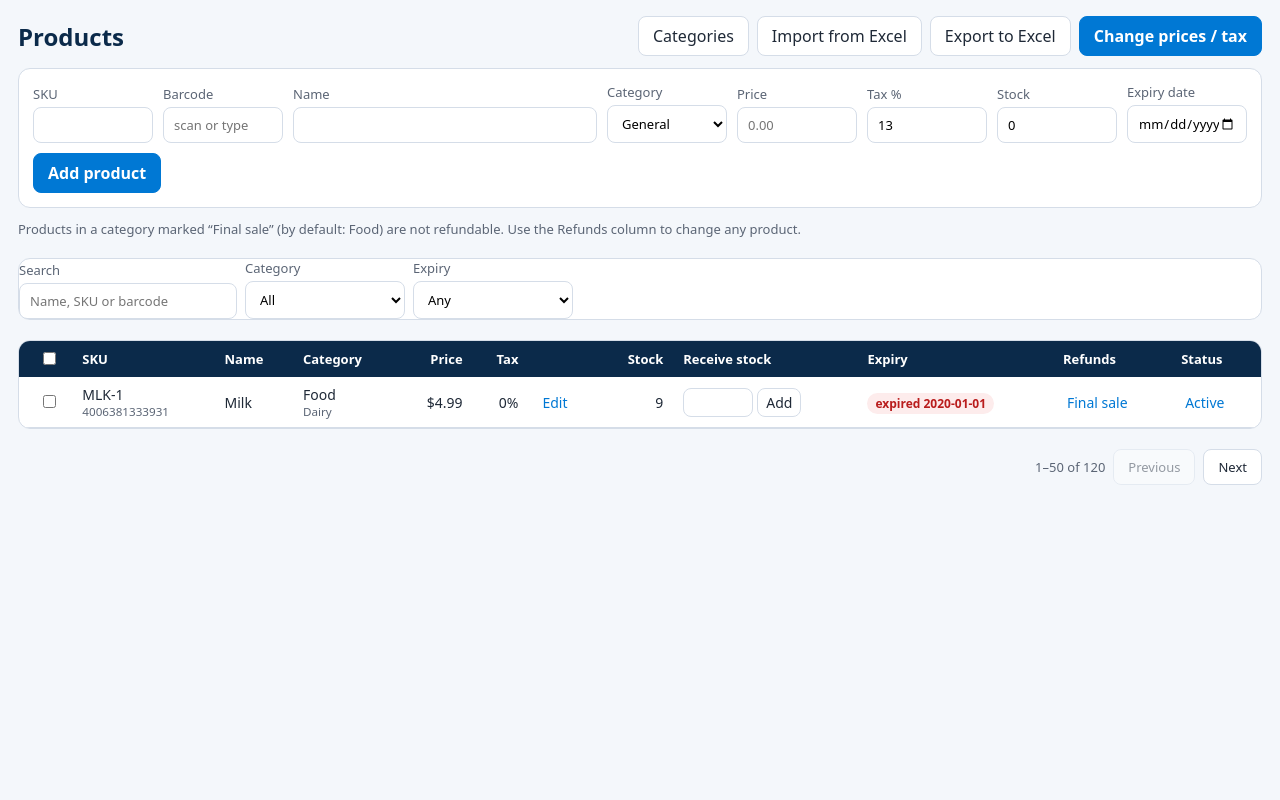
Test case: <Products> paging and filters › asks the server for one page with the chosen filters
Check: the text "1–50 of 120" is shown, box [1035,449,1262,485]
Check: the text "expired 2020-01-01" is shown, box [867,392,994,414]
Select "Food" in the dropdown named "Filter by category" at (325,300), box [245,281,405,319]
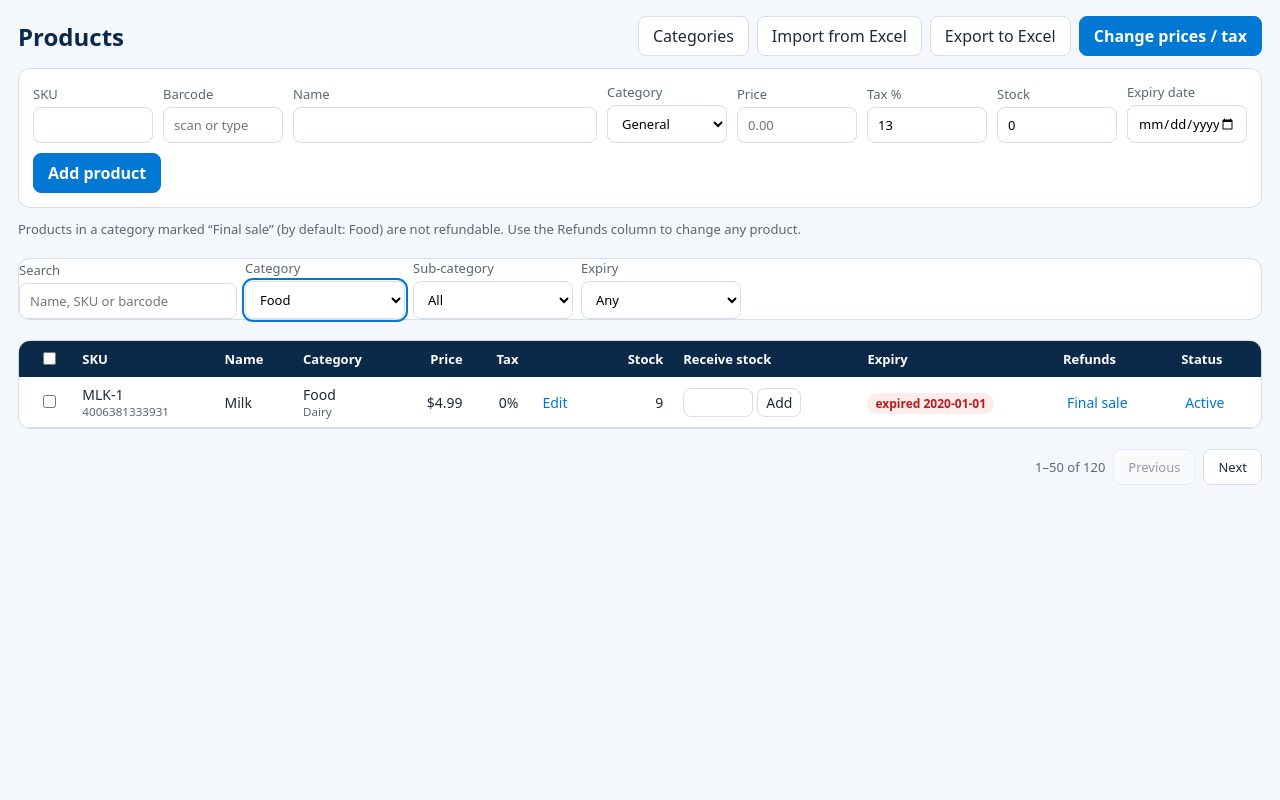
Select "Dairy" in the dropdown named "Filter by sub-category" at (493,300), box [413,281,573,319]
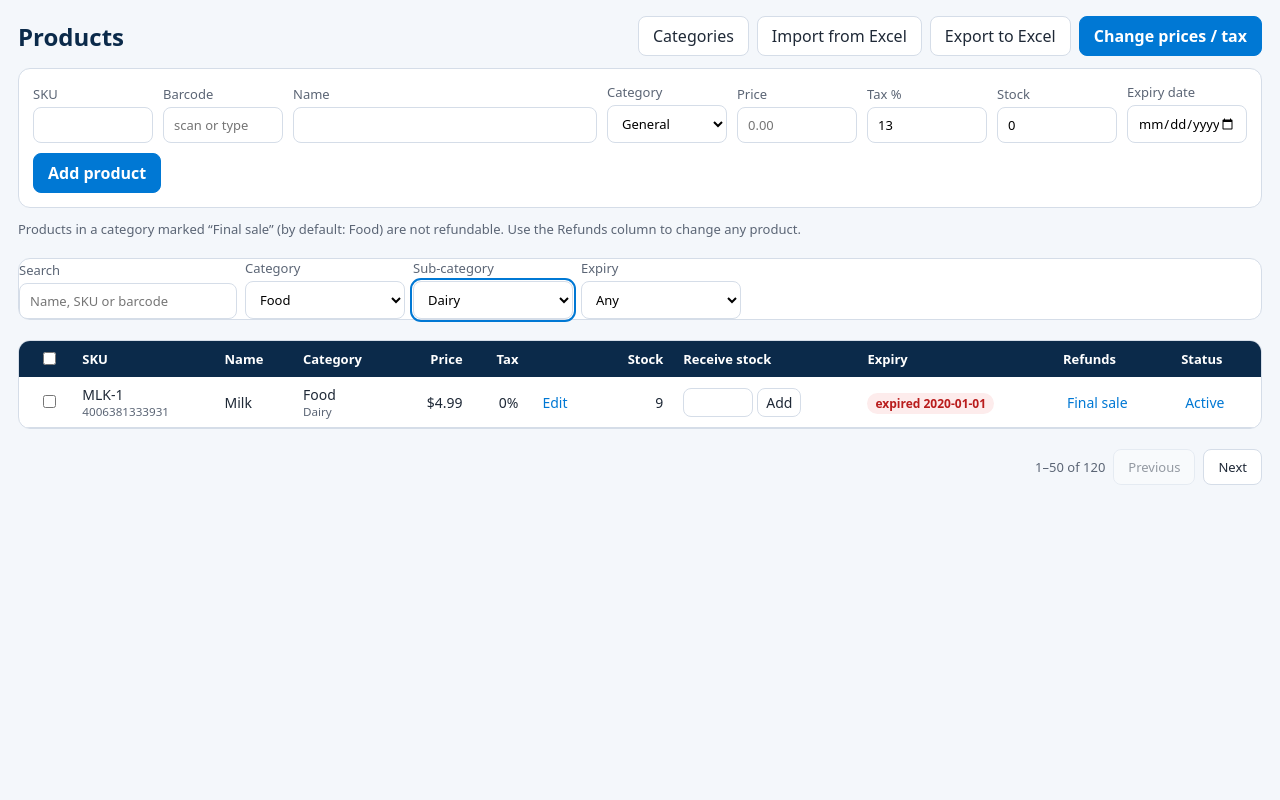
Select "Within 7 days" in the dropdown named "Filter by expiry" at (661,300), box [581,281,741,319]
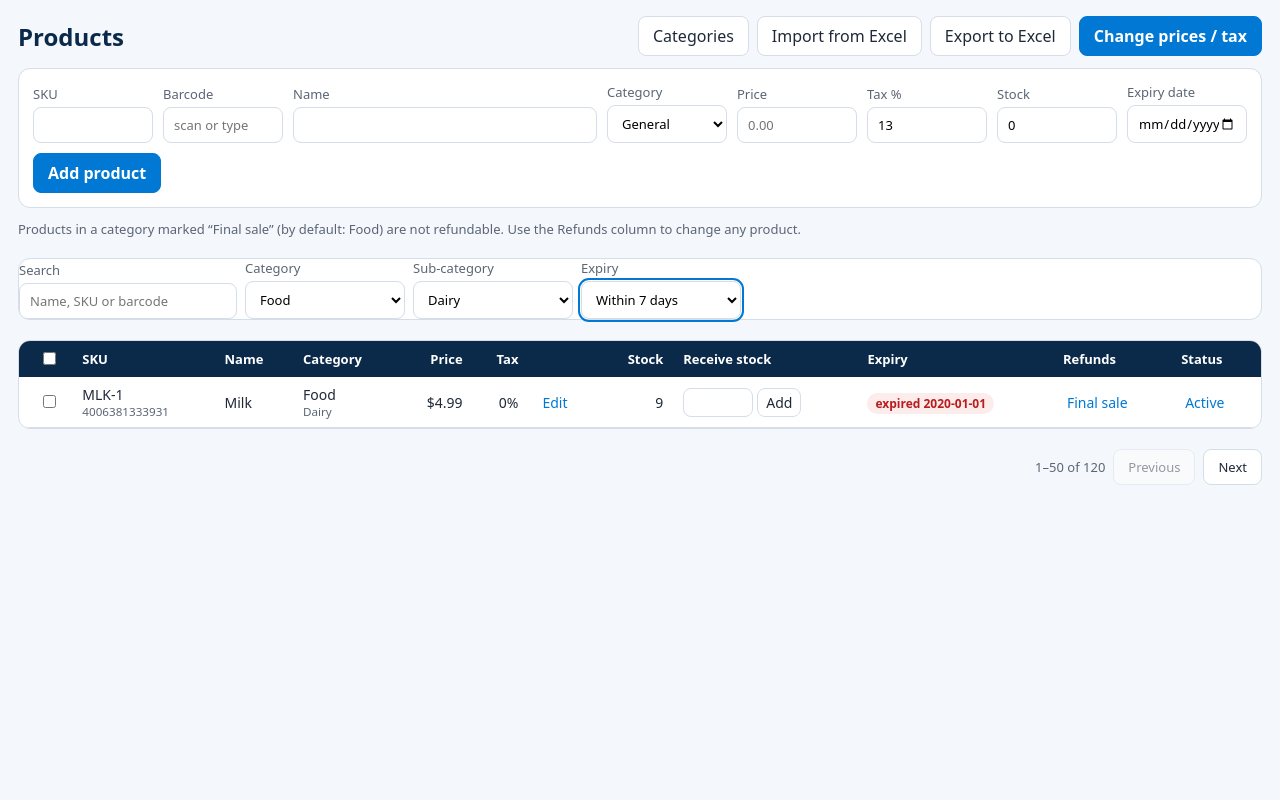
Type "milk" into the search field named "Search the catalogue" at (128,301), box [19,283,237,319]
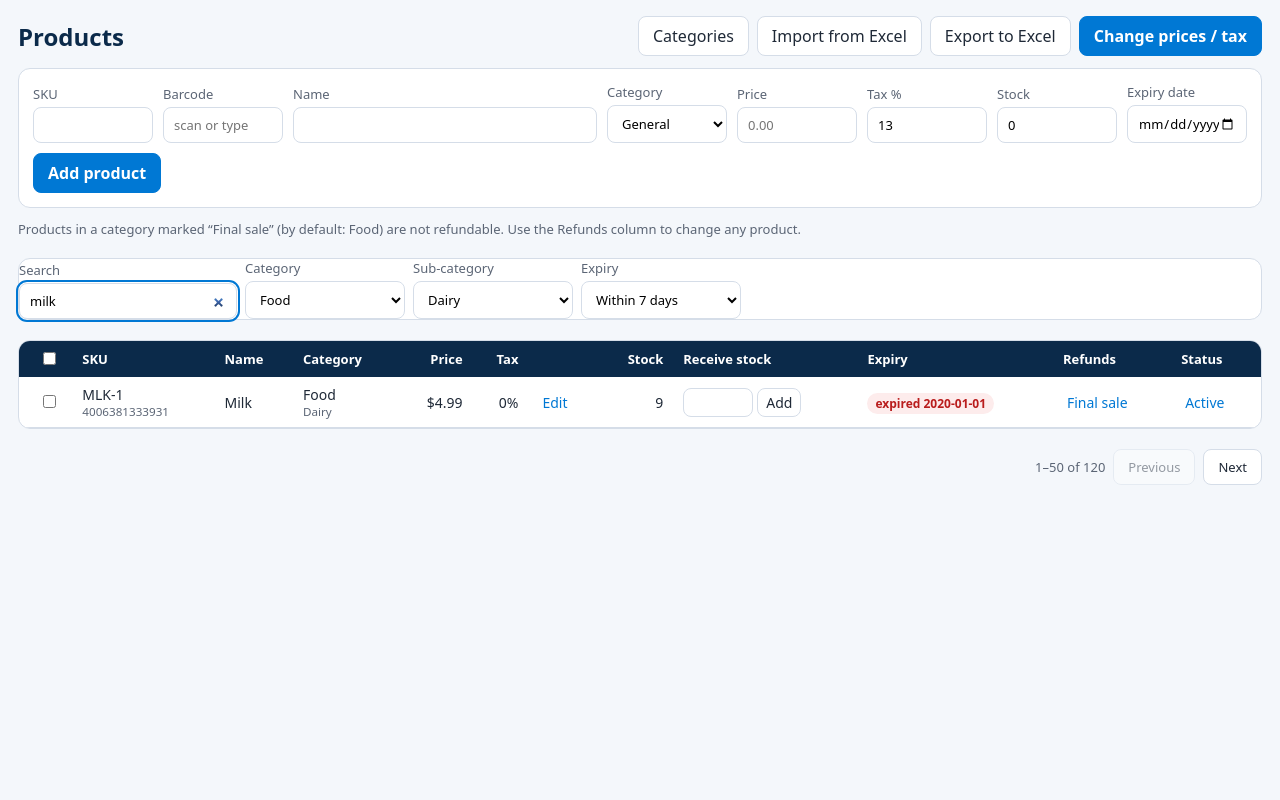
Click the button "Next" at (1233,467), box [1204,449,1262,485]
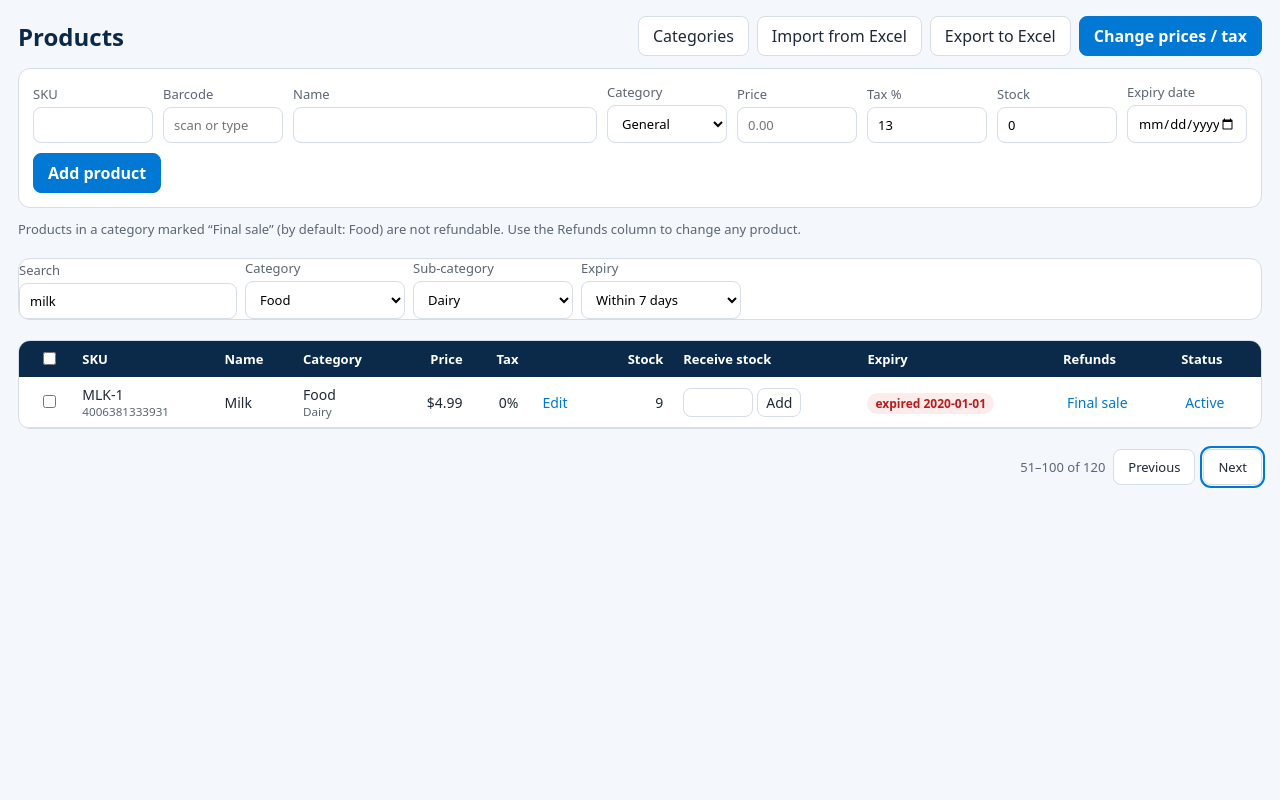
Click the button "Categories" at (693,36), box [638,16,749,56]
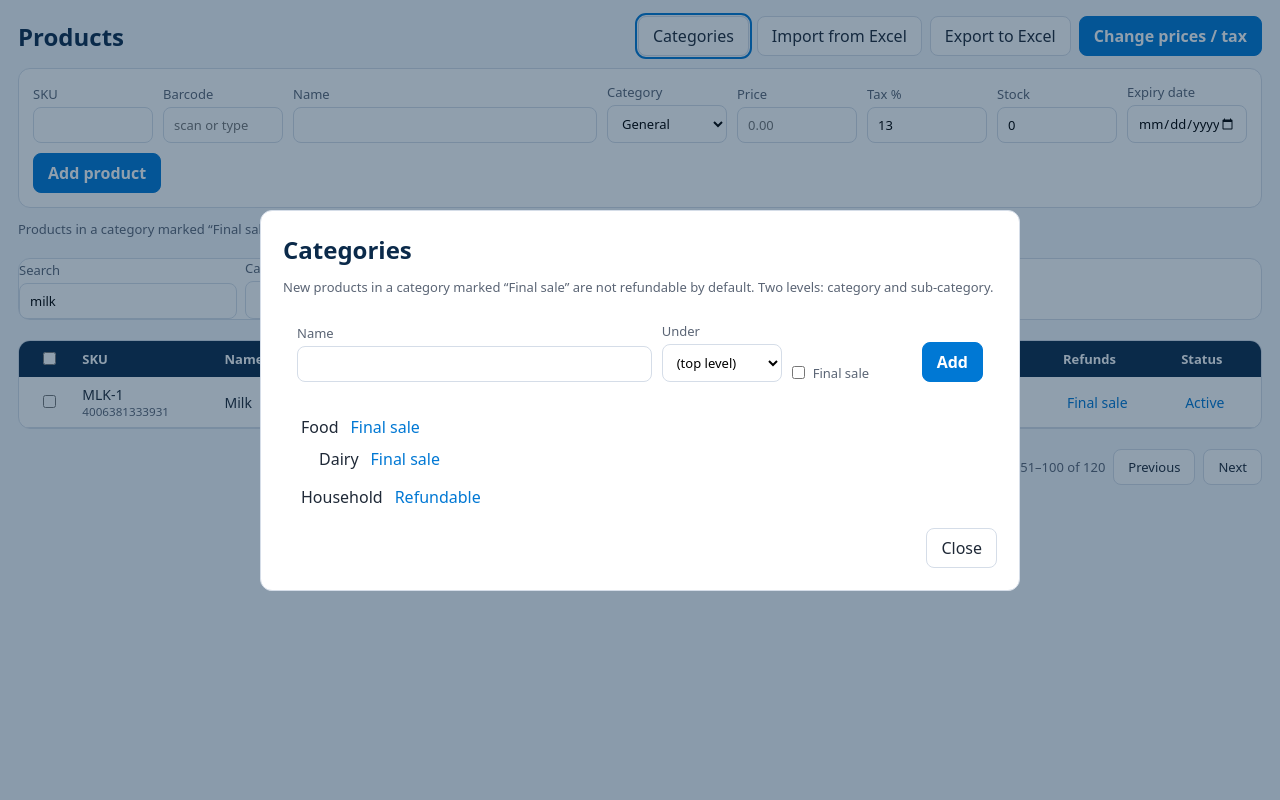
Check: the dialog "Categories" is shown
